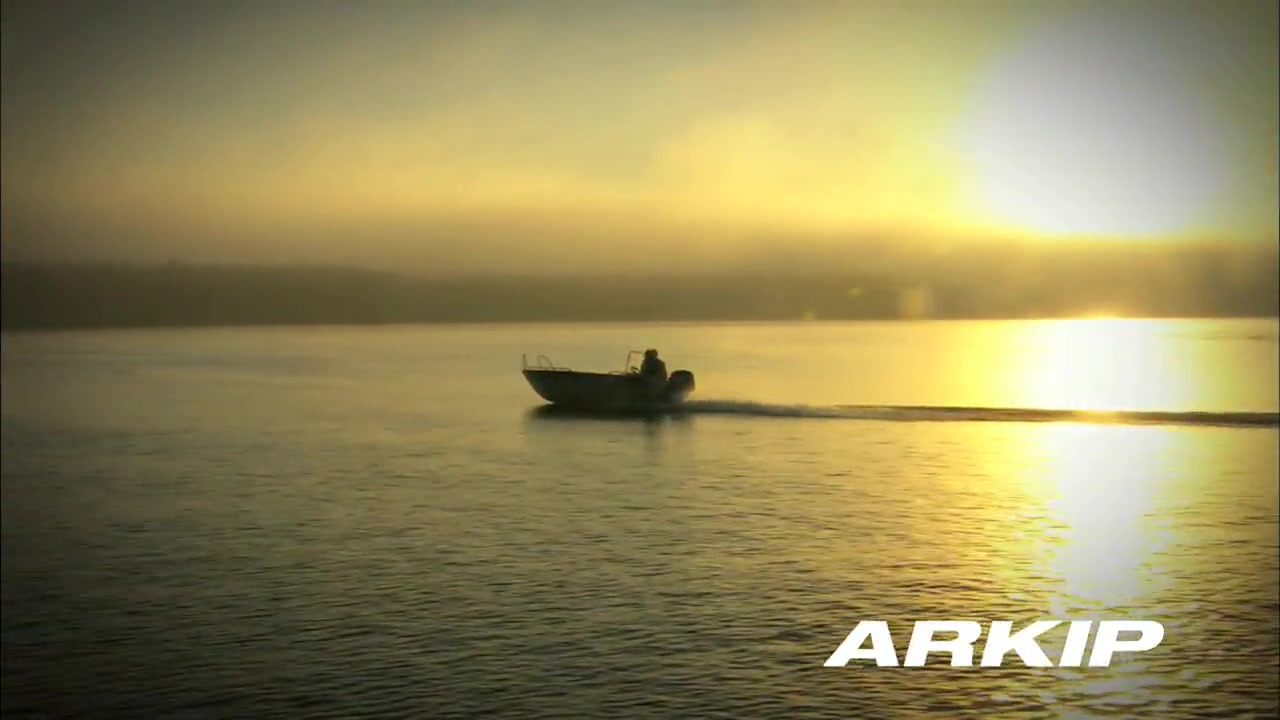boat: (516, 349, 700, 415)
